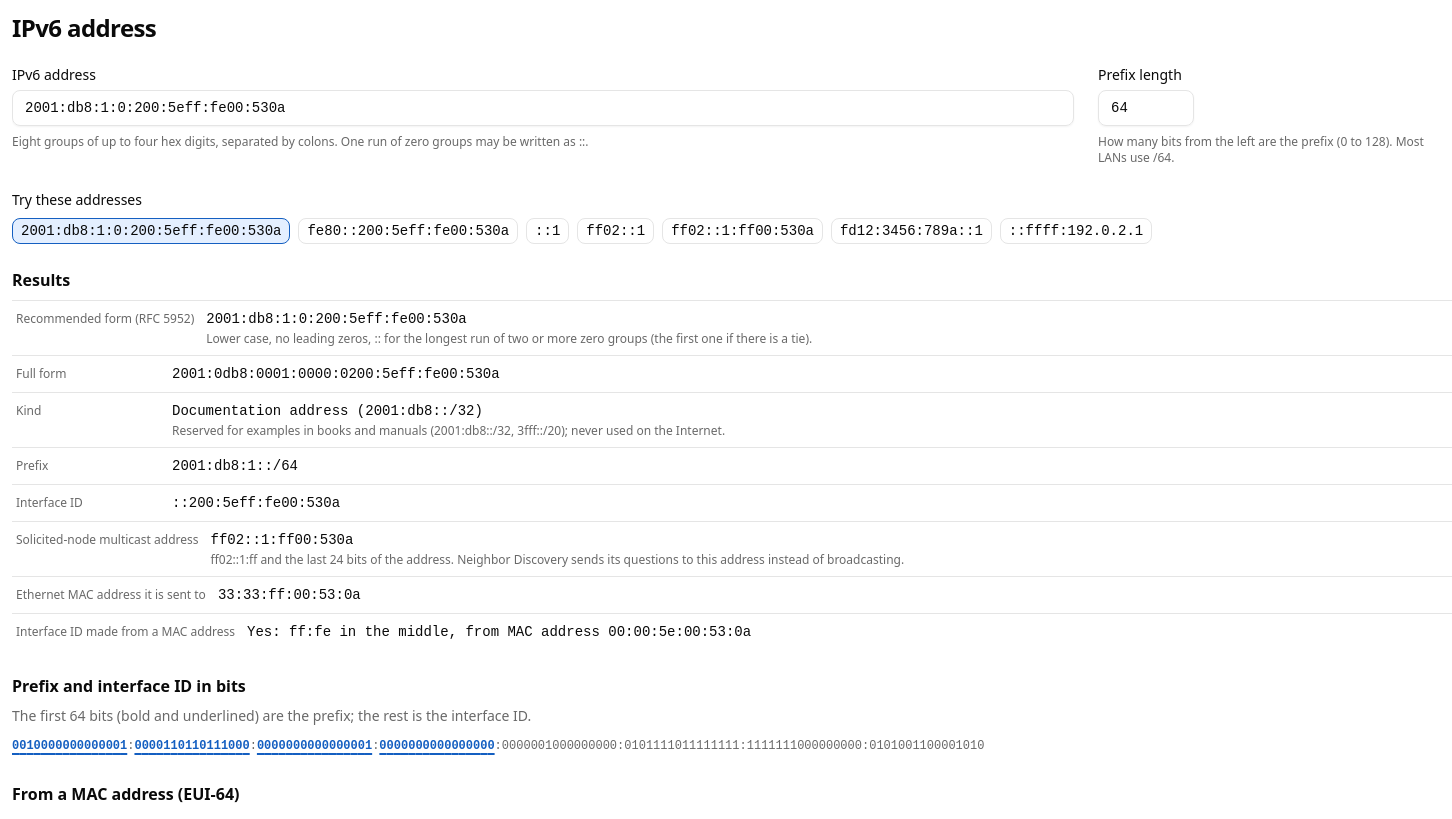
Scenario: Ipv6Address › マルチキャストのアドレスは scope とグループ、送り先の MAC アドレスを示す
This screenshot has width=1452, height=819.
Click the button "ff02::1" at (616, 231), box [577,218,654,244]
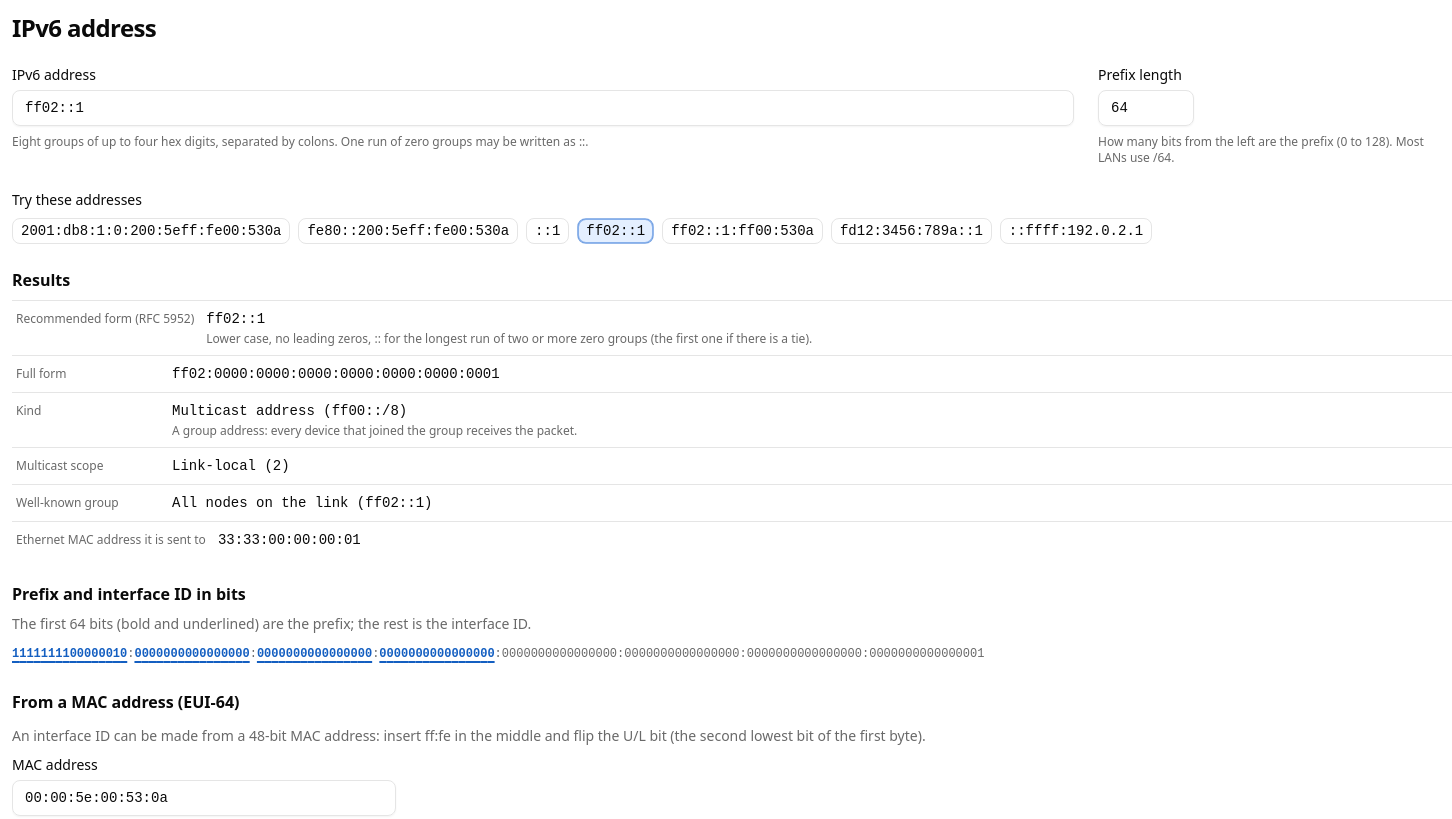
Now the text "Link-local (2)" is shown, box [172,458,290,474]
Now the text "All nodes on the link (ff02::1)" is shown, box [172,495,432,511]
